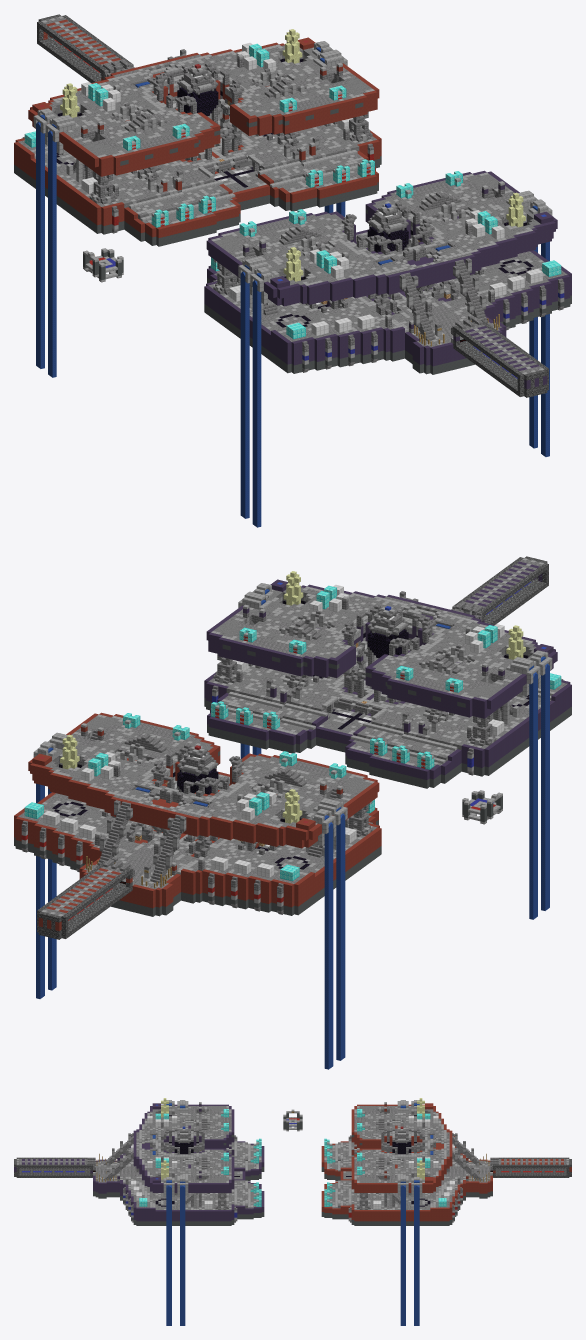
The model's file is minecraft.obj.
3 views of the same model, one above another, from view 1: azimuth 30°, elevation 25°; view 2: azimuth 150°, elevation 25°; view 3: azimuth 270°, elevation 25° (orthographic). The views are drawn at different scales.
Bounding box in the file's own units: 850 × 640 × 2050.
